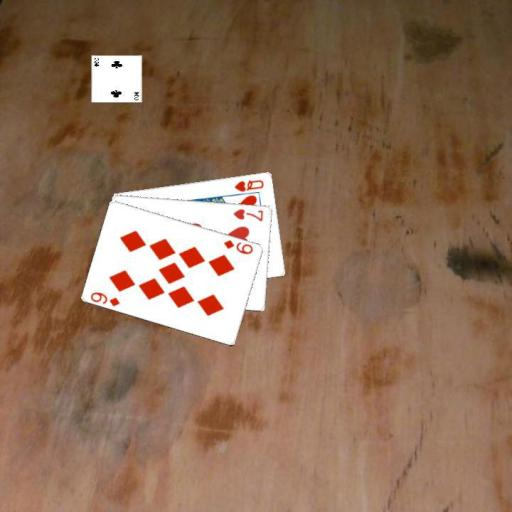7H: (231, 206, 265, 223)
9D: (221, 236, 255, 255), (88, 289, 122, 308)
QH: (231, 176, 265, 193)
